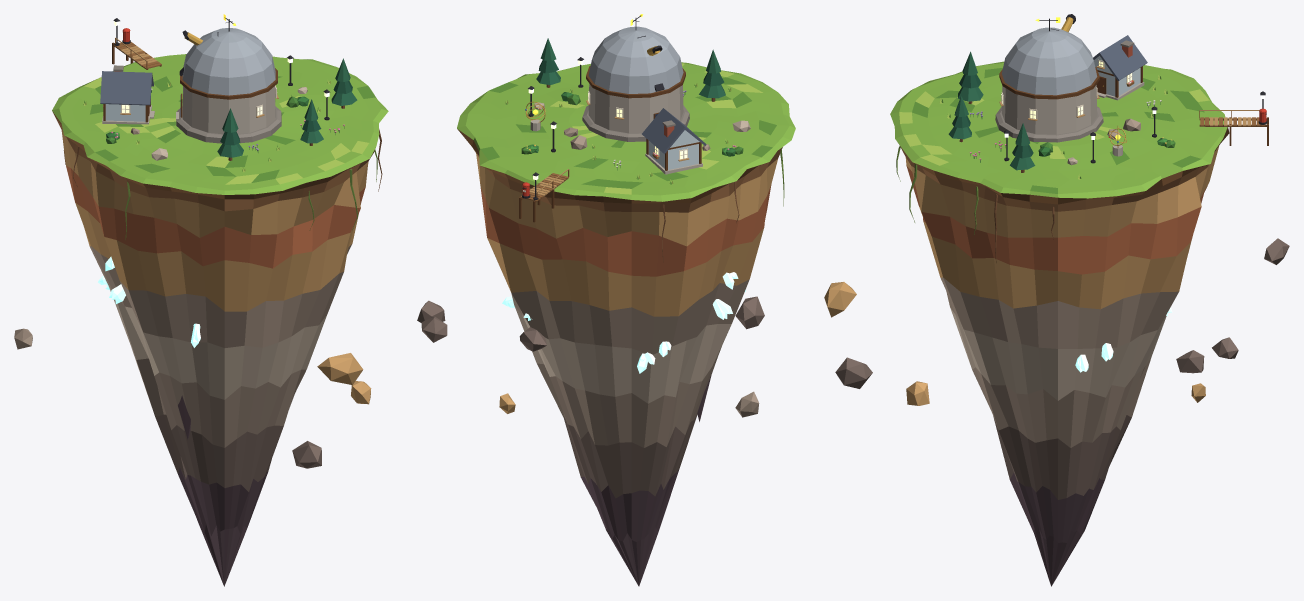
Rendered from island_observatory.glb.
The picture shows the model from 3 angles, left to right: view 1: azimuth 30°, elevation 25°; view 2: azimuth 150°, elevation 25°; view 3: azimuth 270°, elevation 25°; orthographic projection.
Parts seen in each view (by area): view 1: Island-col, Dressing, Debris, Crystals, Roots; view 2: Island-col, Dressing, Debris, Crystals; view 3: Island-col, Dressing, Debris.
Part boxes in pixels (bbox=[...]): Island-col: bbox=[52, 54, 388, 586]; Dressing: bbox=[83, 18, 357, 172]; Debris: bbox=[14, 328, 371, 468]; Crystals: bbox=[98, 256, 200, 347]; Roots: bbox=[63, 129, 382, 239]; Island-col: bbox=[457, 62, 795, 586]; Dressing: bbox=[505, 26, 750, 222]; Debris: bbox=[417, 296, 764, 417]; Crystals: bbox=[502, 272, 745, 373]; Island-col: bbox=[890, 61, 1229, 586]; Dressing: bbox=[939, 14, 1268, 179]; Debris: bbox=[824, 238, 1289, 405].
Size of what is drawn, in the model's own units: 42.83 by 73.73 by 54.45.
